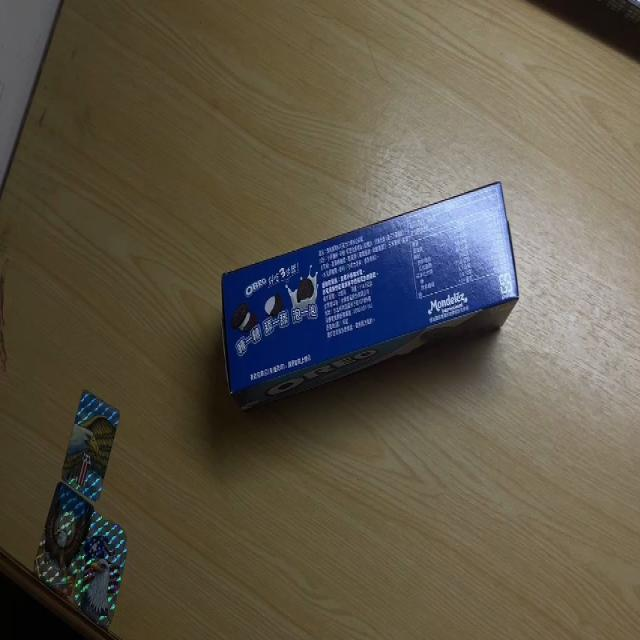Oreo: (219, 182, 518, 414)
